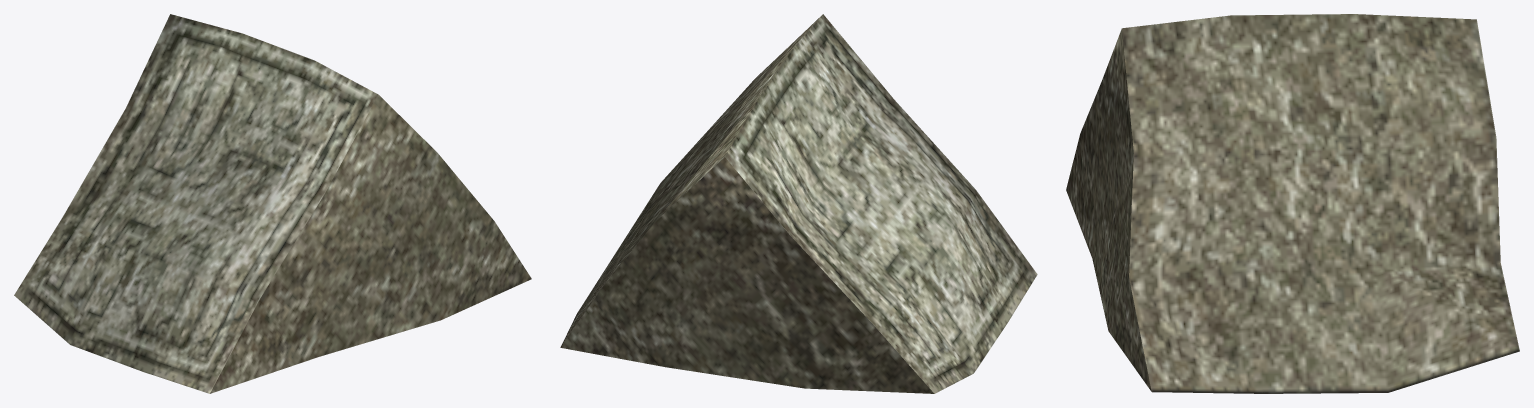
The model's file is ob-bigstone02.fbx.
3 views of the same model, side by side, from view 1: azimuth 30°, elevation 25°; view 2: azimuth 150°, elevation 25°; view 3: azimuth 270°, elevation 25° (orthographic). The views are drawn at different scales.
Visible parts, largest first — view 1: Box01; view 2: Box01; view 3: Box01.
Boxes of the visible parts, bbox=[...] form: Box01: bbox=[14, 14, 531, 393]; Box01: bbox=[560, 14, 1037, 393]; Box01: bbox=[1066, 14, 1519, 393].
Bounding box in the file's own units: 4.5 × 2.7 × 3.79.
